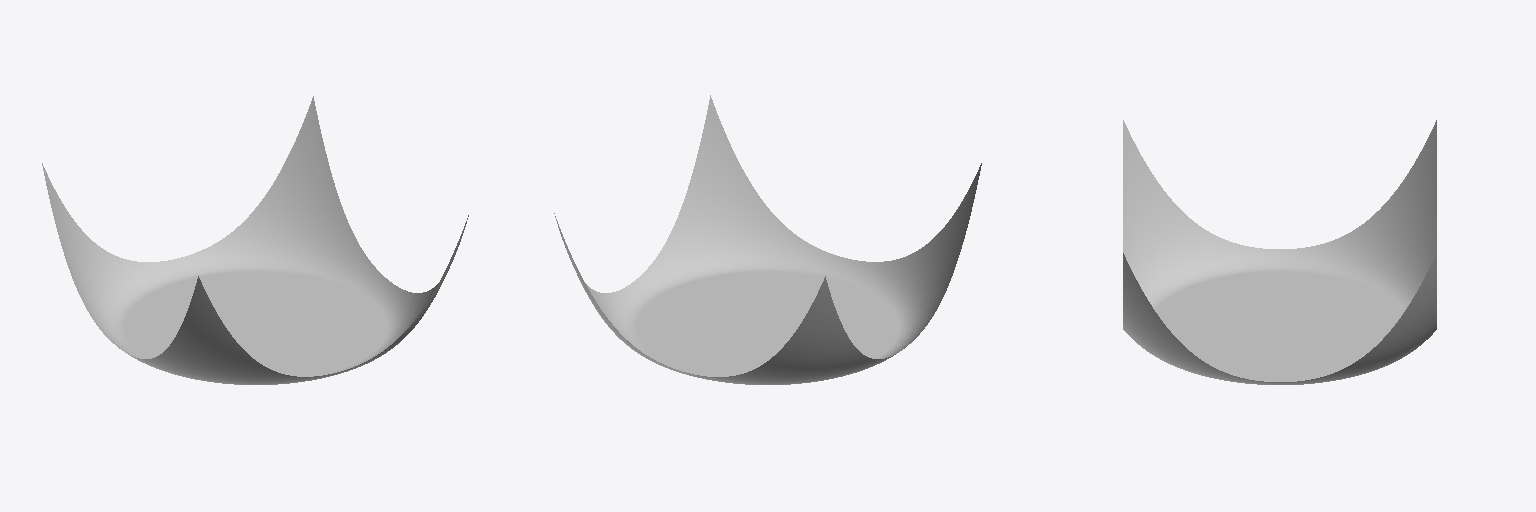
File: bowl_with_texture.obj
The picture shows the model from 3 angles: view 1: azimuth 30°, elevation 25°; view 2: azimuth 150°, elevation 25°; view 3: azimuth 270°, elevation 25°; orthographic projection.
Visible parts, largest first — view 1: compressed_bowl; view 2: compressed_bowl; view 3: compressed_bowl.
Part boxes in pixels (bbox=[...]): compressed_bowl: bbox=[42, 96, 468, 384]; compressed_bowl: bbox=[554, 95, 981, 384]; compressed_bowl: bbox=[1123, 120, 1436, 384].
Bounding box in the file's own units: 4 × 2 × 4.